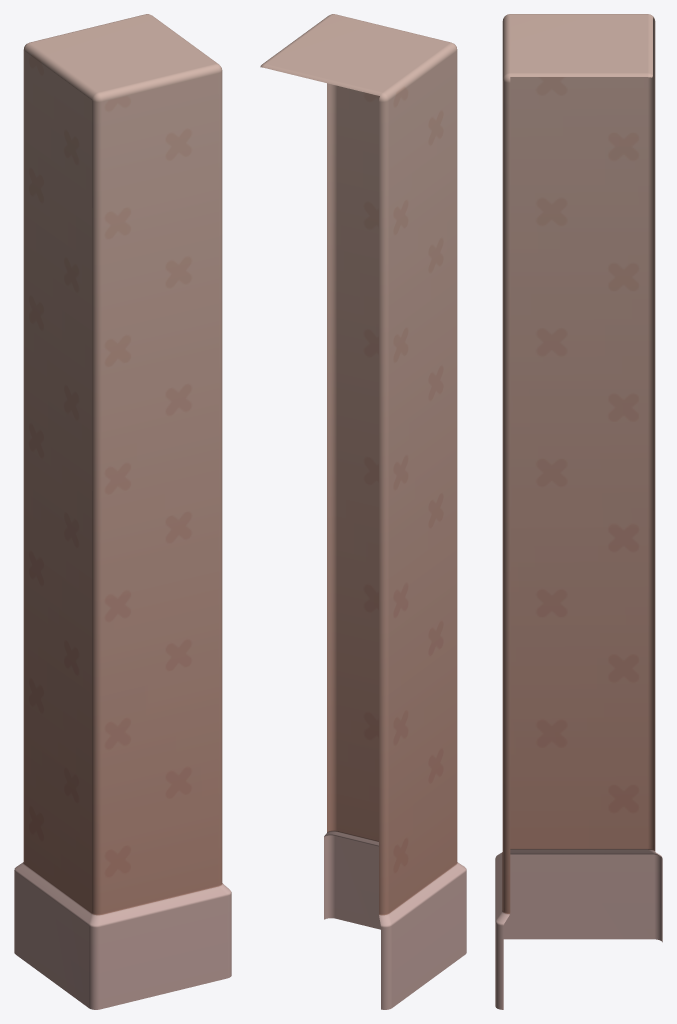
The model's file is SM_Pillar.fbx.
3 views of the same model, side by side, from view 1: azimuth 30°, elevation 25°; view 2: azimuth 150°, elevation 25°; view 3: azimuth 270°, elevation 25° (orthographic). The views are drawn at different scales.
Visible parts, largest first — view 1: SM_Pillar; view 2: SM_Pillar; view 3: SM_Pillar.
Boxes of the visible parts, x1=… form: SM_Pillar: x1=14, y1=14, x2=231, y2=1009; SM_Pillar: x1=260, y1=14, x2=466, y2=1009; SM_Pillar: x1=495, y1=14, x2=662, y2=1009.
Size of the model in its own units: 107 by 659 by 107.
